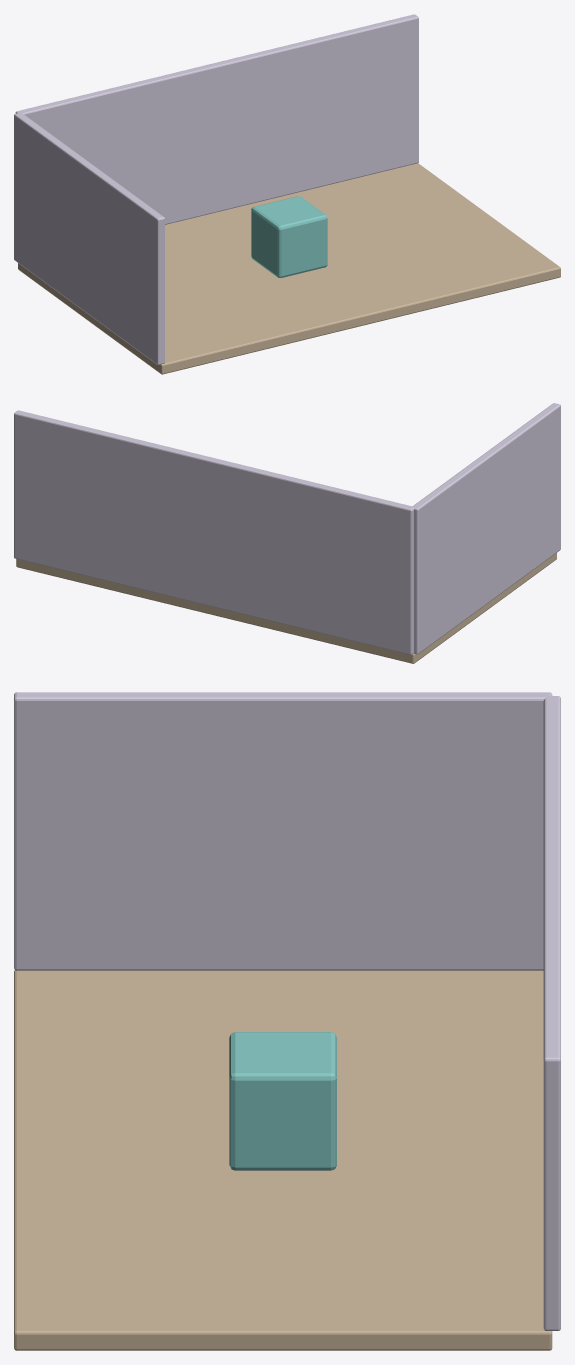
Rendered from ROOM_TEST_001.glb.
The picture shows the model from 3 angles, top to bottom: view 1: azimuth 30°, elevation 25°; view 2: azimuth 150°, elevation 25°; view 3: azimuth 270°, elevation 25°; orthographic projection. The views are drawn at different scales.
Visible parts, largest first — view 1: WALL_BACK_001, FLOOR_TEST_001, WALL_LEFT_001, PLAYER_001; view 2: WALL_BACK_001, WALL_LEFT_001, FLOOR_TEST_001; view 3: FLOOR_TEST_001, WALL_LEFT_001, PLAYER_001, WALL_BACK_001.
Boxes of the visible parts, left/top/right/bottom form: WALL_BACK_001: left=15, top=14, right=418, bottom=224; FLOOR_TEST_001: left=18, top=163, right=560, bottom=374; WALL_LEFT_001: left=14, top=113, right=164, bottom=364; PLAYER_001: left=251, top=196, right=327, bottom=277; WALL_BACK_001: left=14, top=410, right=413, bottom=654; WALL_LEFT_001: left=412, top=403, right=560, bottom=654; FLOOR_TEST_001: left=16, top=553, right=556, bottom=663; FLOOR_TEST_001: left=14, top=970, right=552, bottom=1350; WALL_LEFT_001: left=14, top=692, right=552, bottom=970; PLAYER_001: left=229, top=1032, right=336, bottom=1170; WALL_BACK_001: left=543, top=696, right=560, bottom=1330.
Size of the model in its own units: 8.08 by 3 by 5.08.
